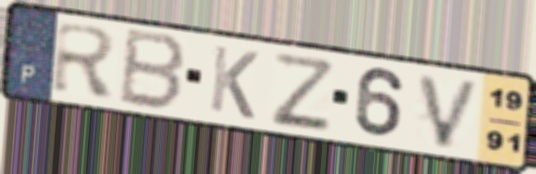6: (352, 67, 407, 140)
B: (116, 25, 190, 114)
K: (206, 42, 262, 123)
R: (49, 19, 120, 101)
V: (415, 70, 485, 151)
Z: (270, 48, 334, 131)
